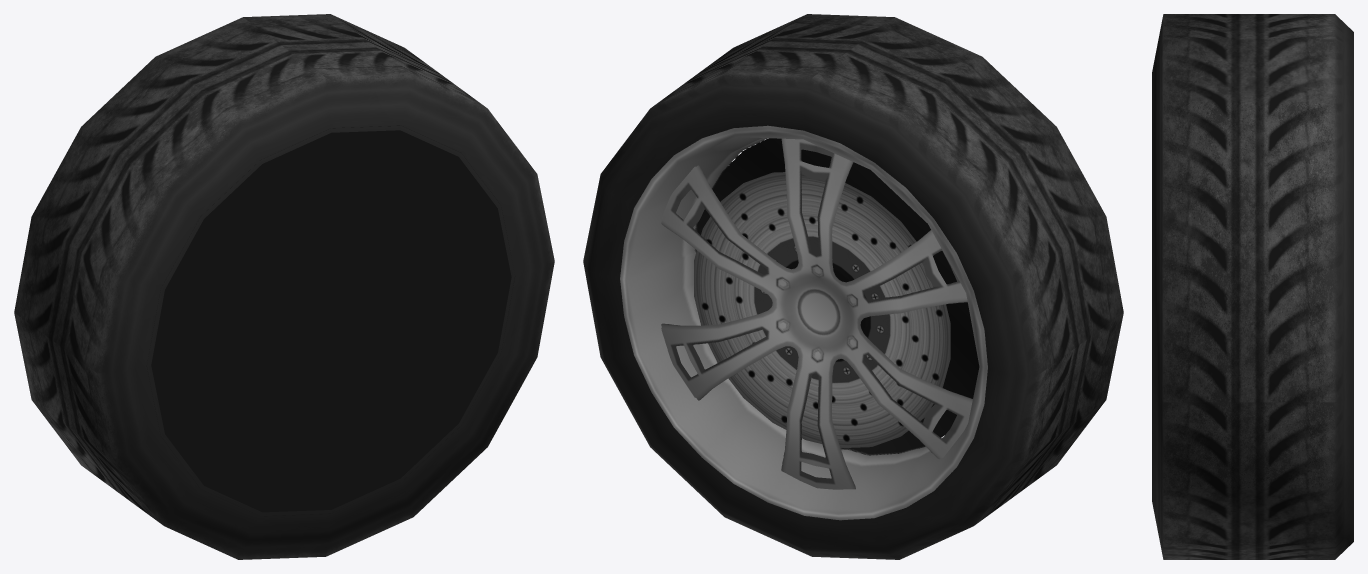
File: 4_Free.fbx
3 renders of one model, left to right at view 1: azimuth 30°, elevation 25°; view 2: azimuth 150°, elevation 25°; view 3: azimuth 270°, elevation 25°, orthographic. The views are drawn at different scales.
Visible parts, largest first — view 1: Ruber.001; view 2: Ruber.001; view 3: Ruber.001.
Boxes of the visible parts, box(x1,y1,x2,y2) form: Ruber.001: box(14, 14, 554, 559); Ruber.001: box(583, 14, 1123, 559); Ruber.001: box(1152, 14, 1353, 559).
Size of the model in its own units: 0.5806 by 0.5806 by 0.2143.
